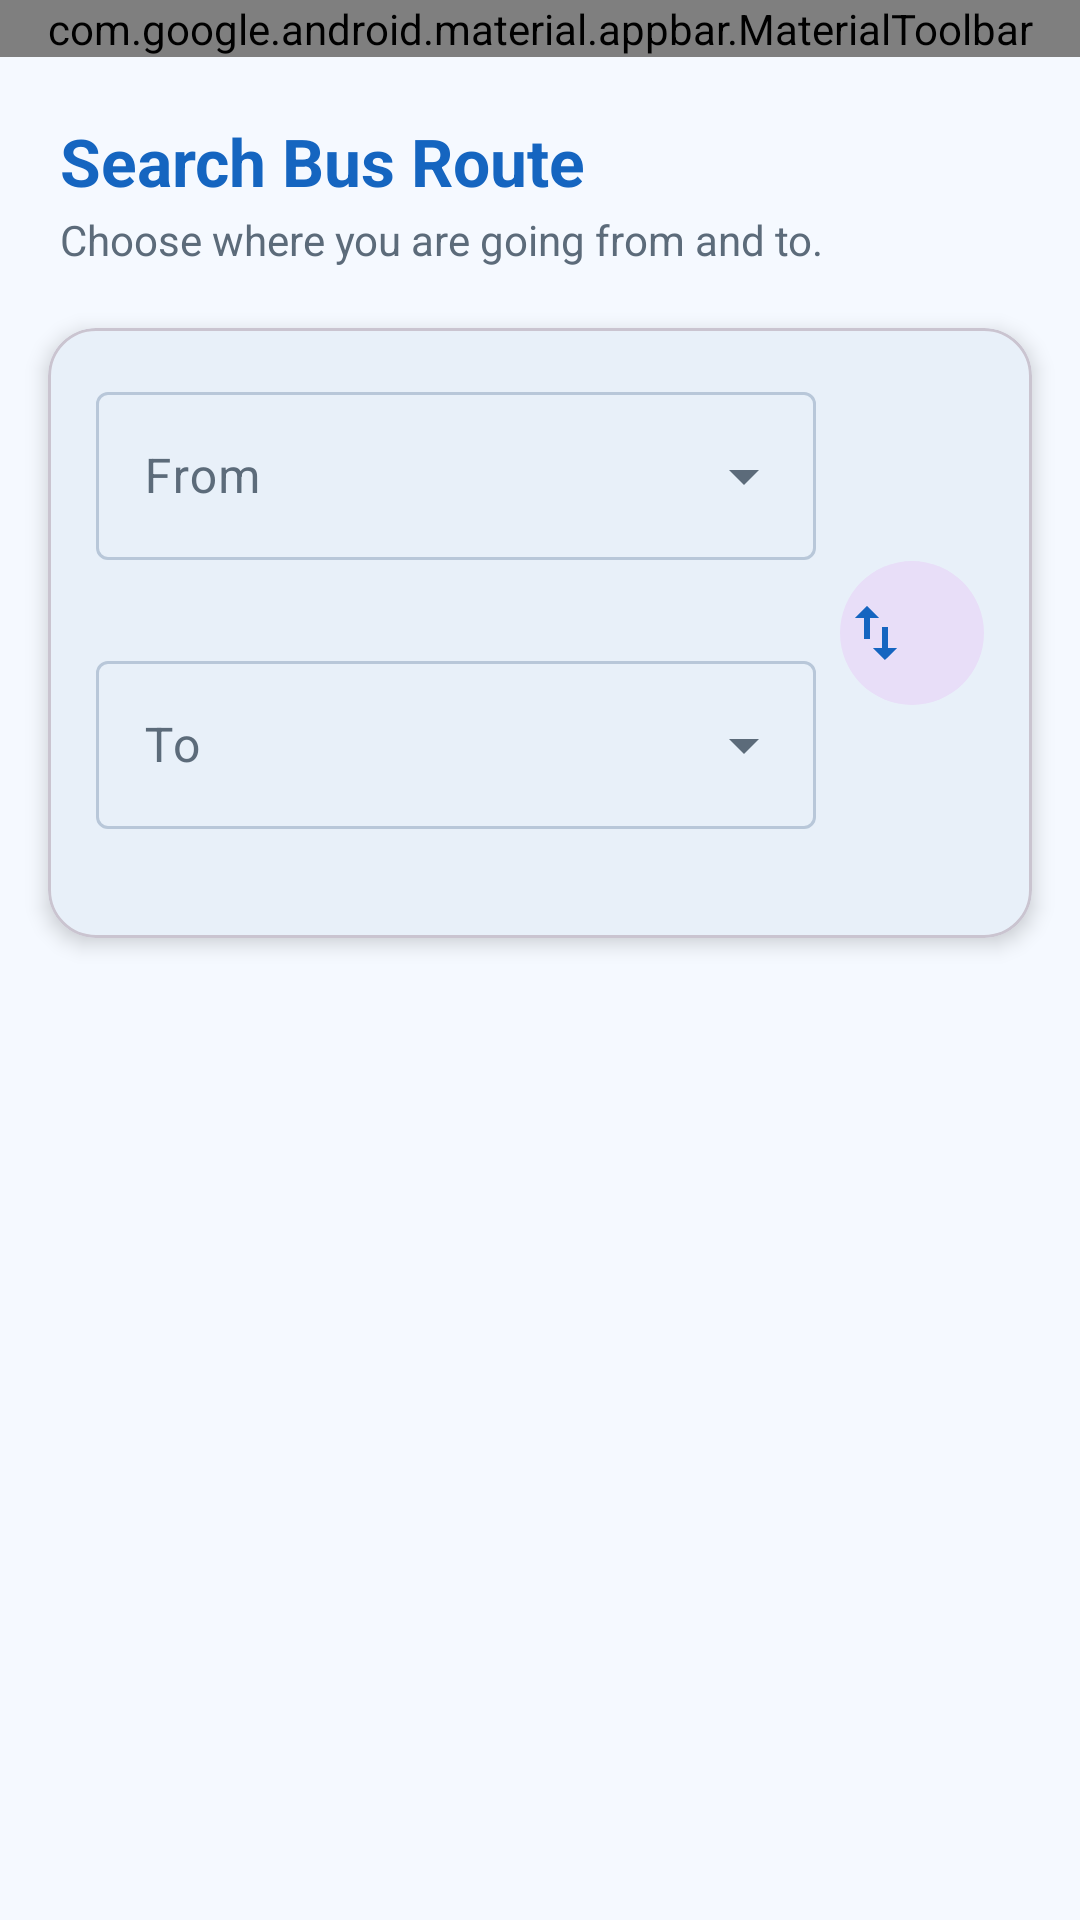

Icon bounding boxes for this 1080x1920 phone screenshot, format (x1, y1, x2, y2):
Swap stops: (840, 561, 984, 705)
